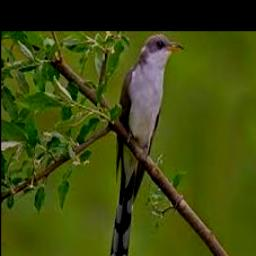Cuckoo: (109, 33, 184, 256)
